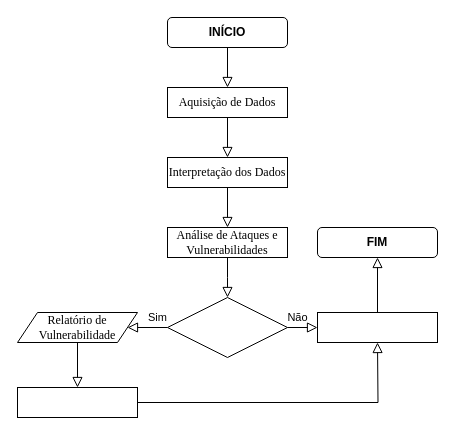
This 455x435 diagram has some shape labels left out. Here are the shapes that lost their labels. From the top down, the centre of each, then its label:
At pixel 227 327: "Vulnerabilidade desconhecida?".
At pixel 377 327: "Contramedidas de Segurança".
At pixel 77 402: "Reportar no CVE".
